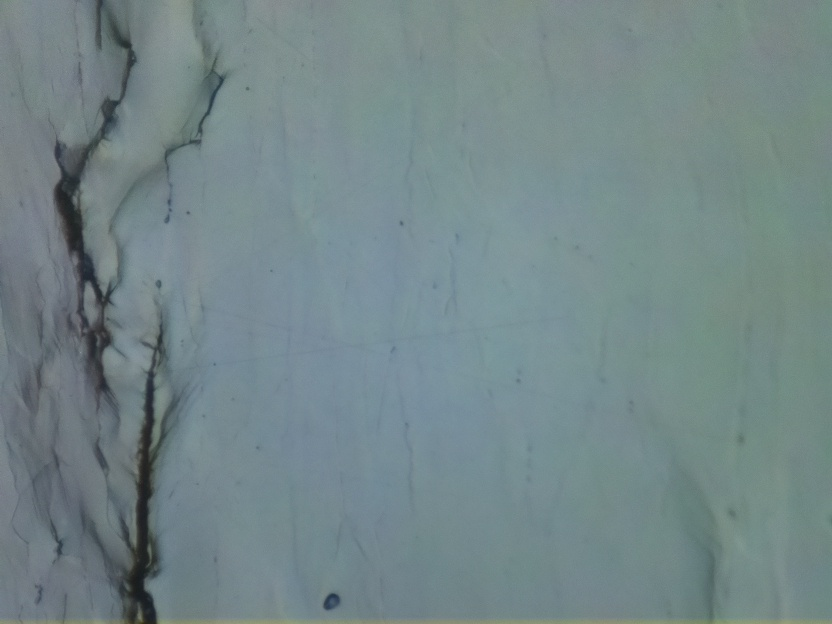crack: (53, 6, 137, 310), (120, 313, 176, 624), (163, 52, 226, 209)
